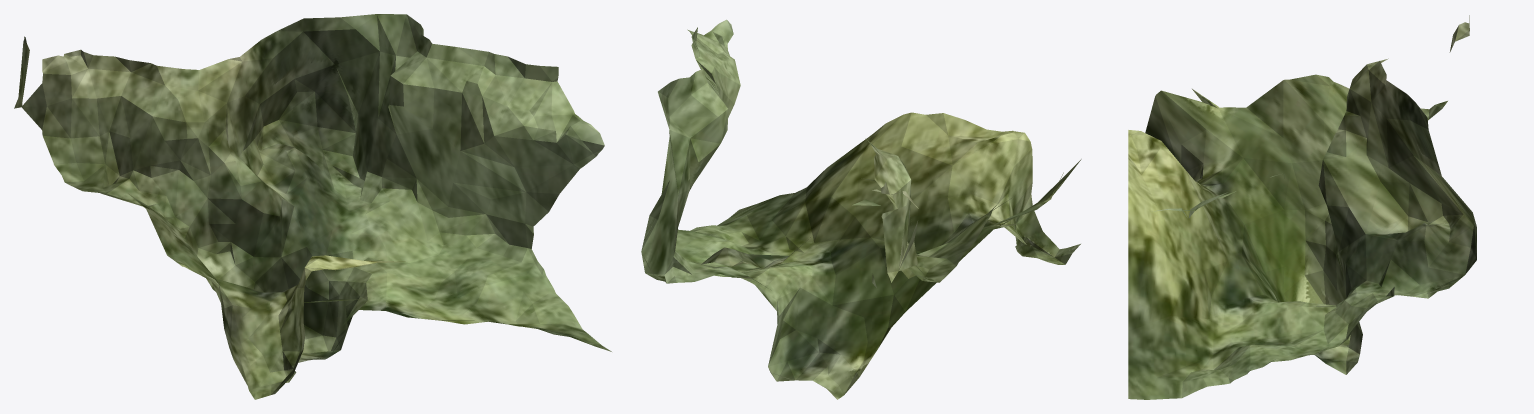
3 renders of one model, left to right at view 1: azimuth 30°, elevation 25°; view 2: azimuth 150°, elevation 25°; view 3: azimuth 270°, elevation 25°, orthographic. The views are drawn at different scales.
Size of the model in its own units: 2.95 by 2.21 by 2.95.
4 materials, 4 textured.
